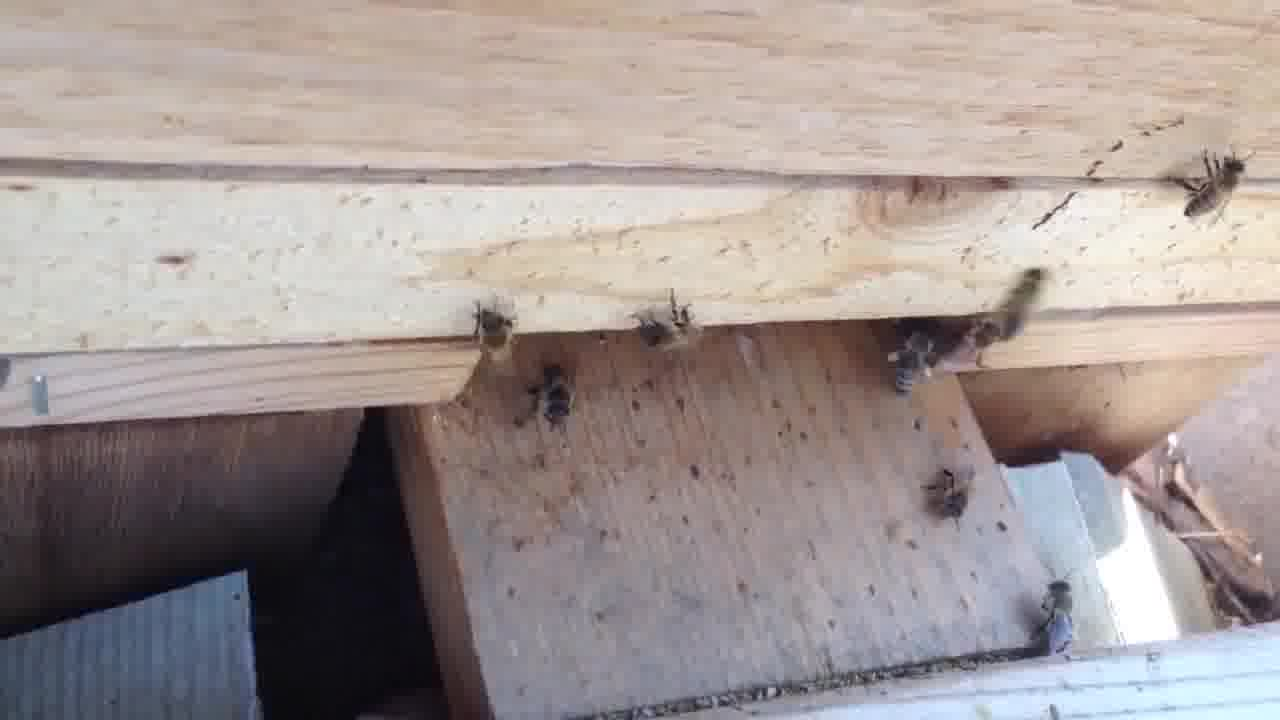pollen: (886, 325, 939, 393)
